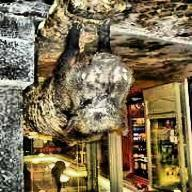boar: (34, 34, 135, 164)
